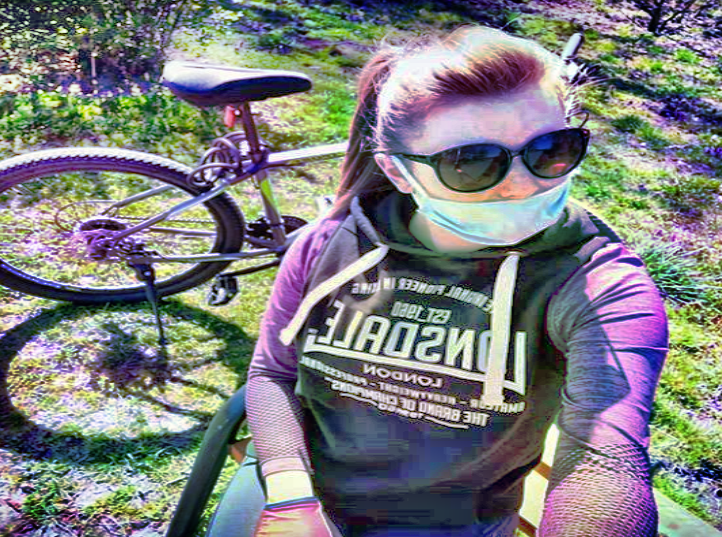mask_weared_incorrect: (362, 30, 595, 249)
